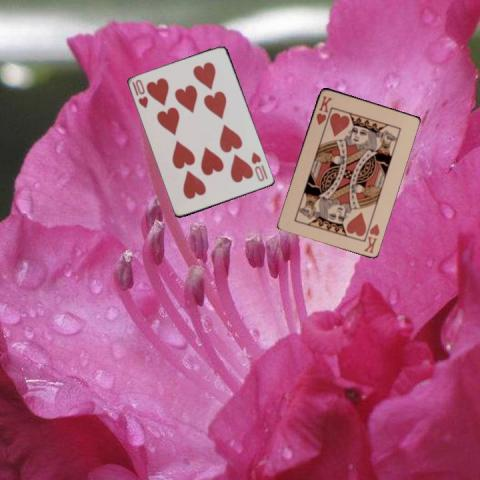10h: (249, 149, 269, 183), (130, 77, 150, 110)
Kh: (360, 220, 380, 254), (314, 93, 334, 126)
